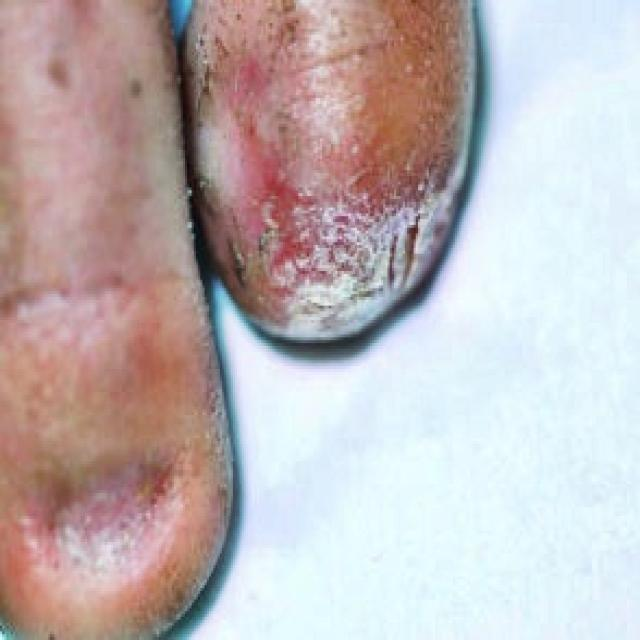Psoriasis-pictures-Lichen-Planus: (84, 41, 535, 490)
